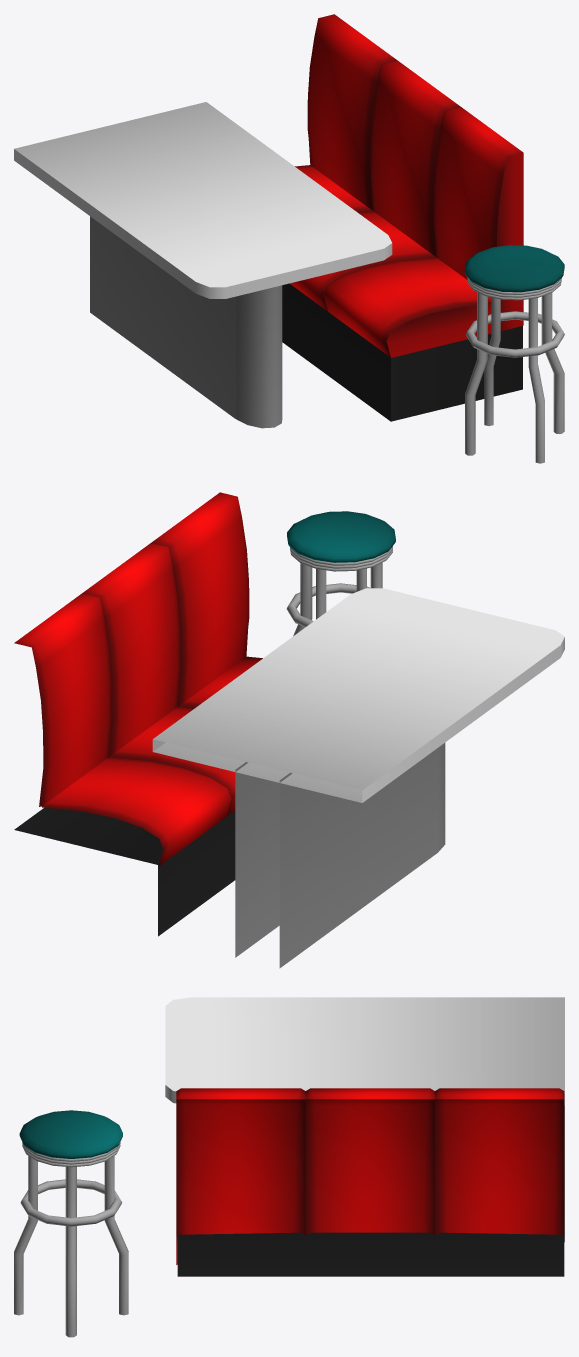
File: m_thomas_furniture.fbx
The picture shows the model from 3 angles, top to bottom: view 1: azimuth 30°, elevation 25°; view 2: azimuth 150°, elevation 25°; view 3: azimuth 270°, elevation 25°; orthographic projection. The views are drawn at different scales.
Parts seen in each view (by area): view 1: m_thomas_furniture; view 2: m_thomas_furniture; view 3: m_thomas_furniture.
Boxes of the visible parts, x1,y1,x2,y2 form: m_thomas_furniture: (14, 14, 564, 463); m_thomas_furniture: (14, 492, 564, 968); m_thomas_furniture: (14, 997, 564, 1337).
Bounding box in the file's own units: 171 × 123 × 249.
